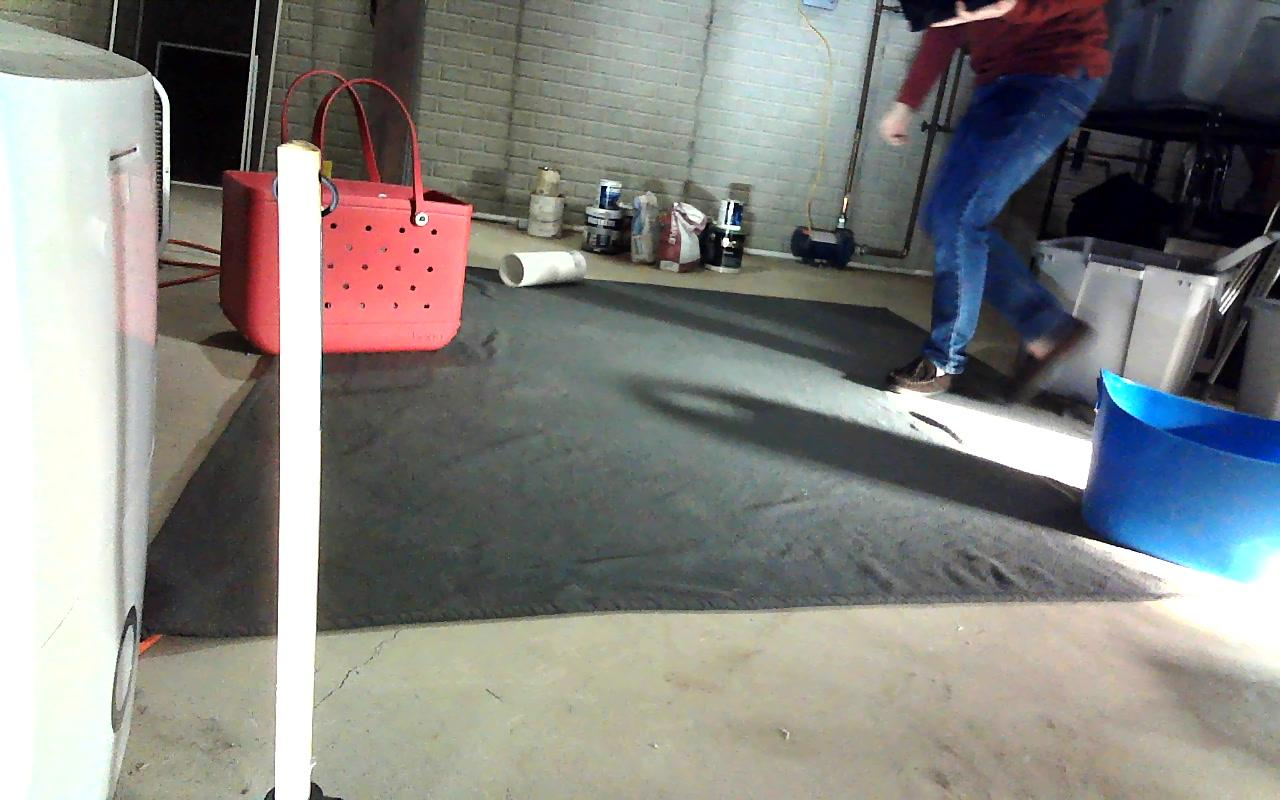coral: (500, 248, 585, 288)
